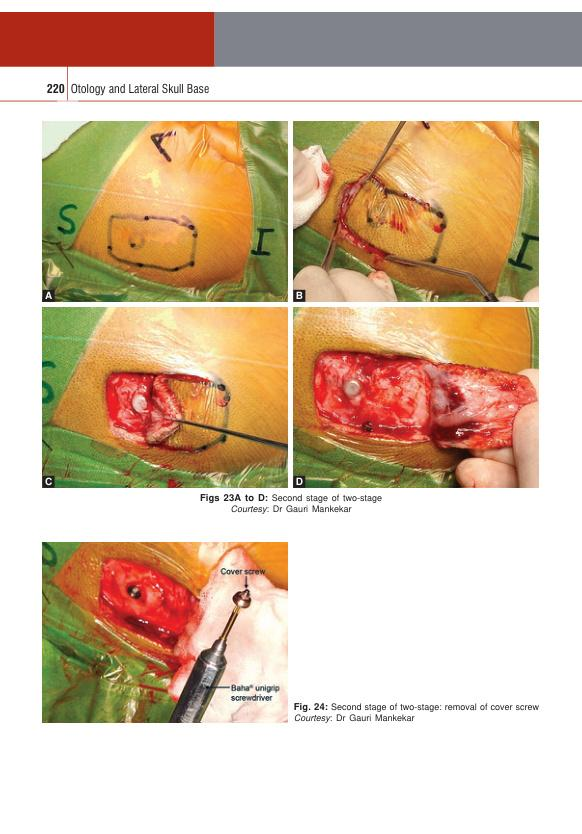caption: (293, 701, 540, 724), (199, 492, 383, 515), (43, 290, 53, 301), (295, 290, 304, 301), (44, 476, 53, 487), (295, 477, 304, 486)
header: (69, 81, 211, 96)
image: (292, 306, 540, 489), (41, 306, 289, 488), (41, 541, 289, 723), (293, 120, 539, 302), (41, 121, 287, 302)
